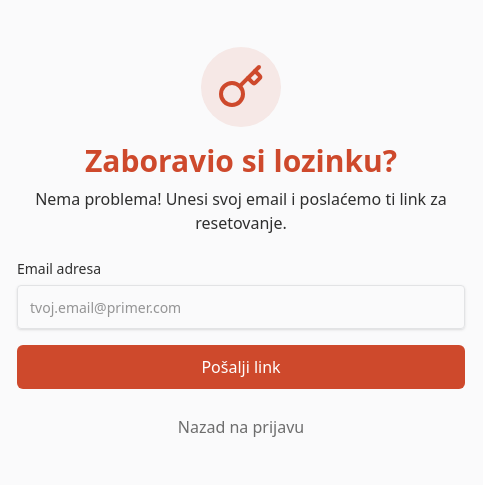
Test: PasswordReset › shows default error message when no error provided
Type "test@example.com" into the field at (241, 307), box [17,285,465,329]
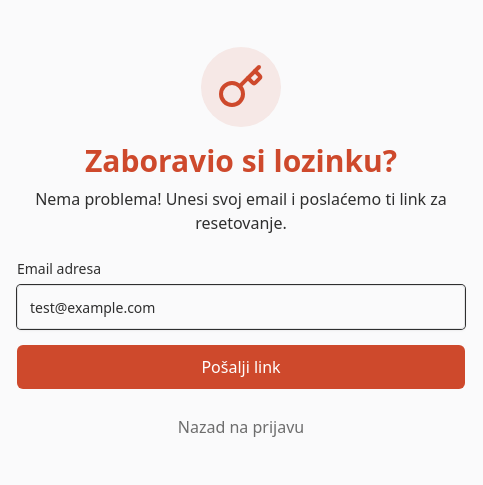
Click the button "Pošalji link" at (241, 367), box [17,345,465,389]
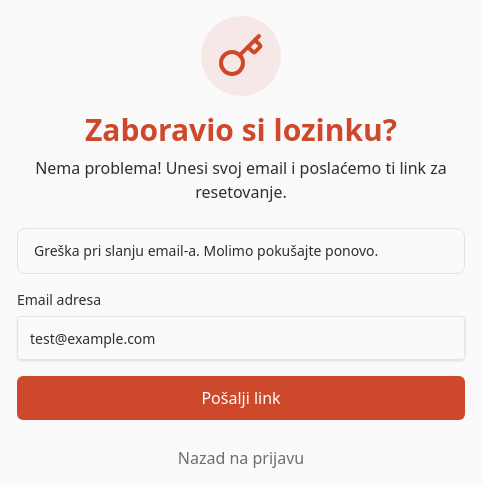
Expected: the text "Greška pri slanju email-a. Molimo pokušajte ponovo." is shown, [17,228,465,274]
